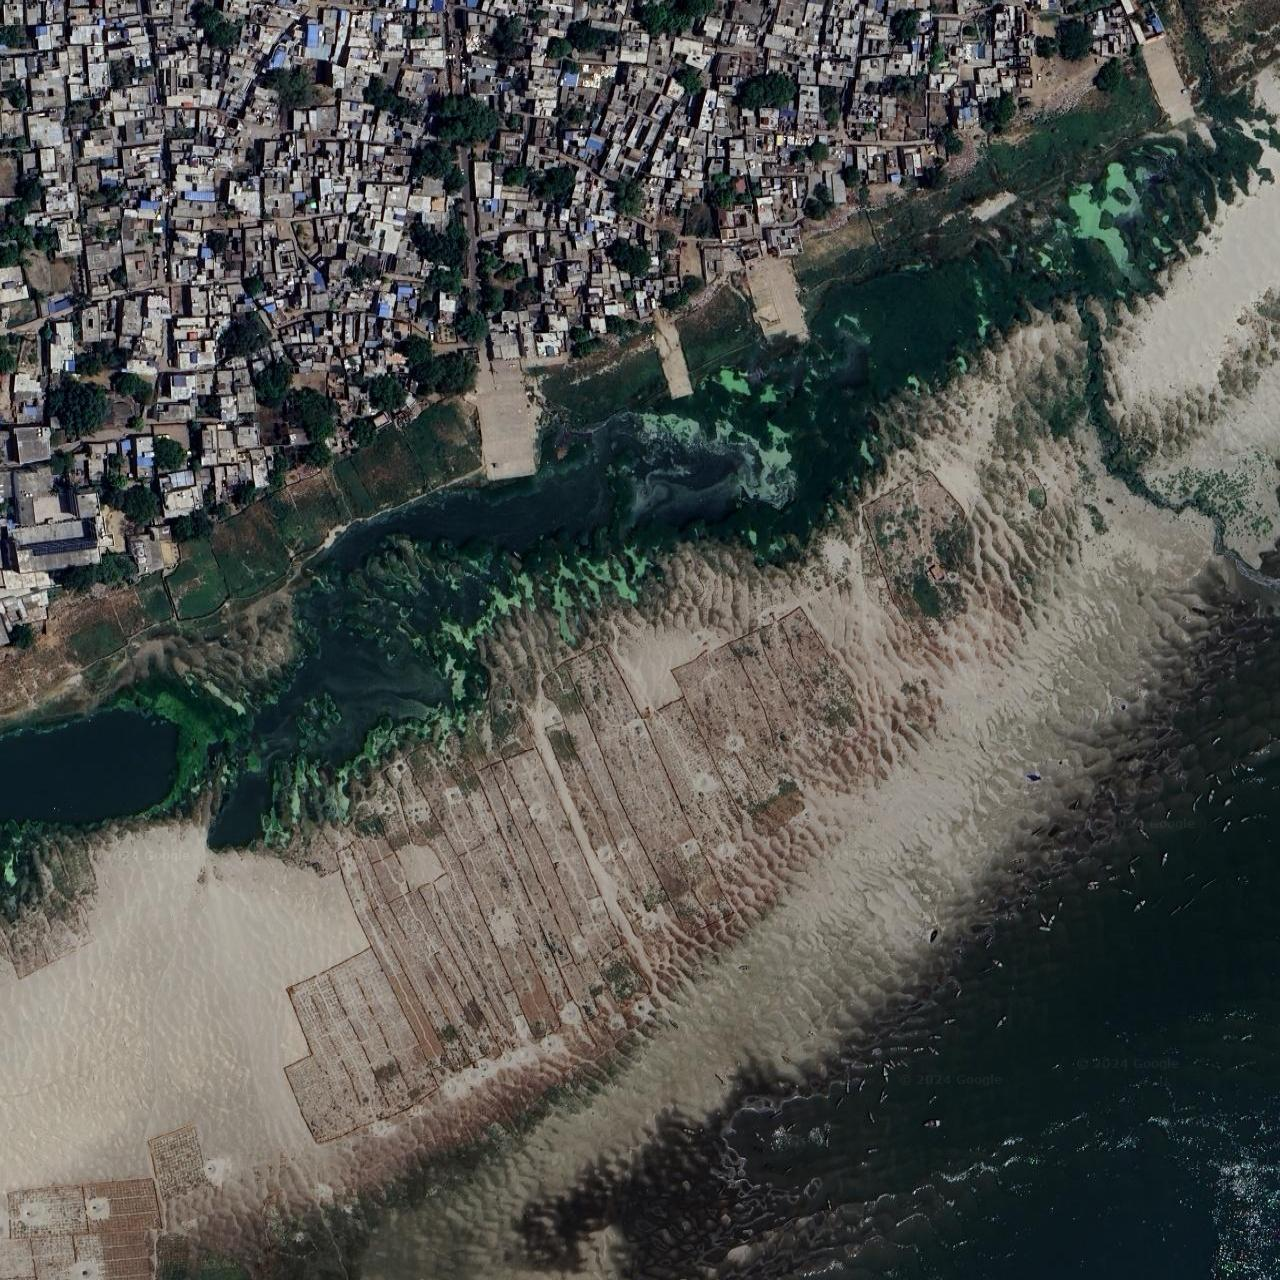greenery: (350, 338, 477, 445), (45, 342, 155, 440), (97, 435, 203, 529), (252, 353, 335, 462), (410, 95, 501, 192), (410, 210, 470, 324), (503, 165, 576, 206), (635, 0, 715, 35), (190, 0, 243, 52), (260, 64, 318, 110), (220, 309, 272, 360), (1035, 18, 1092, 61), (488, 15, 527, 64), (5, 177, 45, 223), (50, 380, 93, 417)
house: (1, 0, 1060, 639), (1088, 0, 1163, 57)
water: (520, 605, 1280, 1280)
